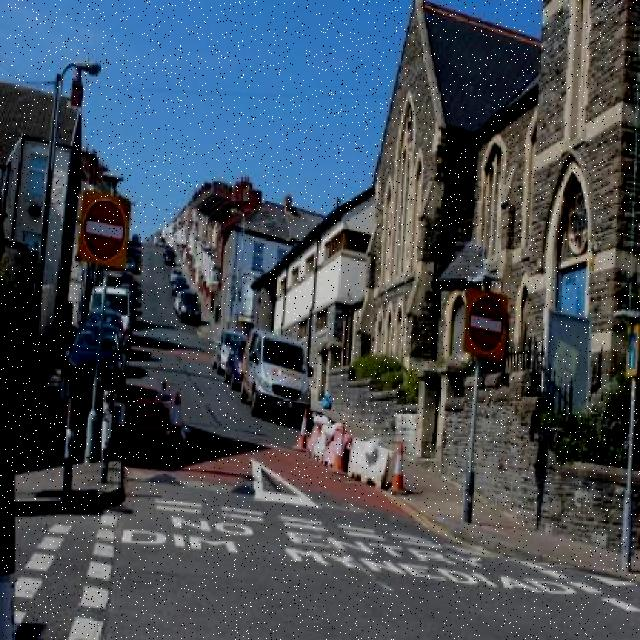Zakaz wjazdu: (78, 192, 128, 272), (465, 286, 507, 358)
